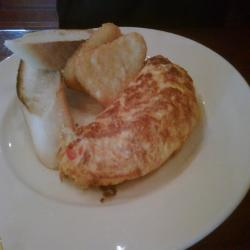omelette: (72, 58, 193, 183)
